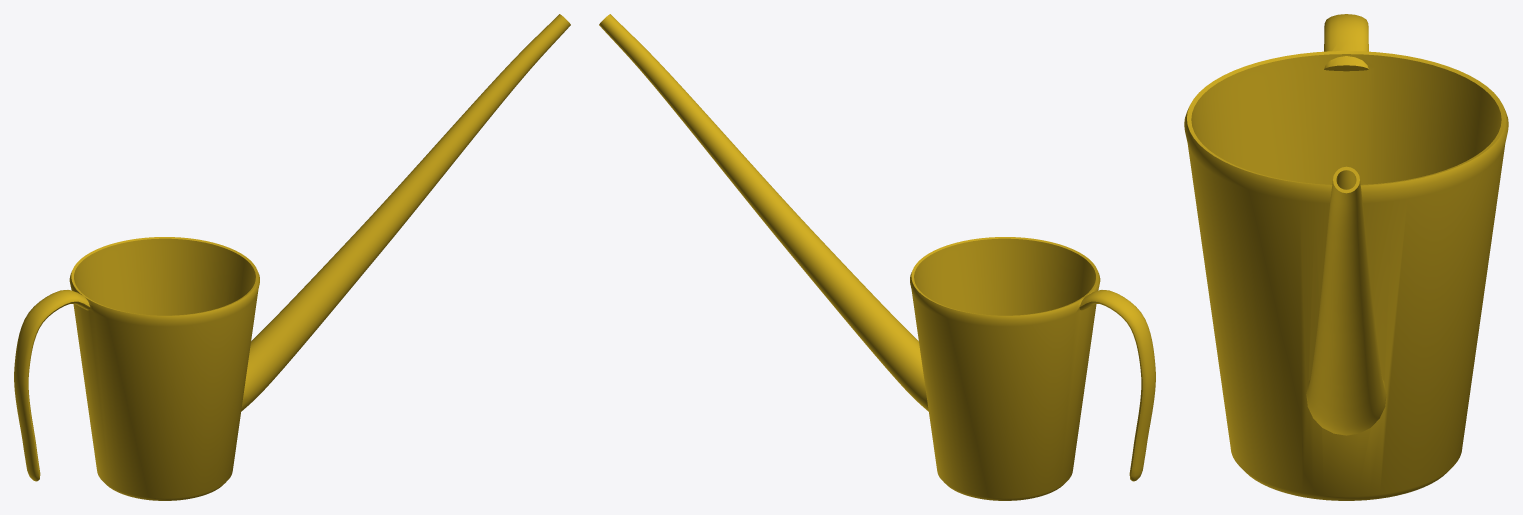
Rendered from watering_can.glb.
3 views of the same model, side by side, from view 1: azimuth 30°, elevation 25°; view 2: azimuth 150°, elevation 25°; view 3: azimuth 270°, elevation 25° (orthographic). The views are drawn at different scales.
Parts seen in each view (by area): view 1: watering_can; view 2: watering_can; view 3: watering_can.
Part boxes in pixels (x1,y1,x2,y2): watering_can: (14, 14, 570, 500); watering_can: (599, 14, 1155, 500); watering_can: (1184, 14, 1508, 500).
Size of the model in its own units: 0.4085 by 0.2561 by 0.122.
